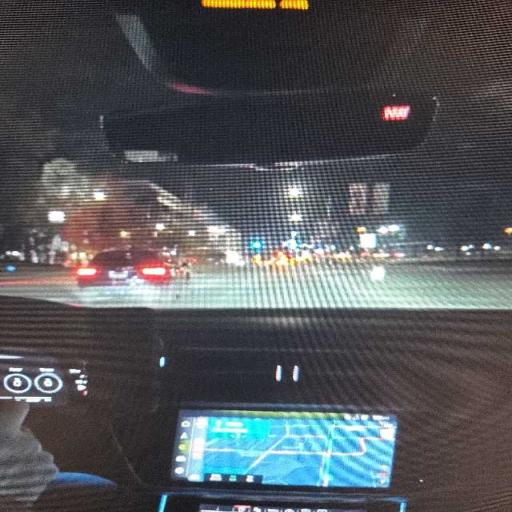car: (0, 0, 511, 511), (76, 249, 171, 286)
lane: (0, 264, 511, 309)
person: (0, 401, 57, 511)
